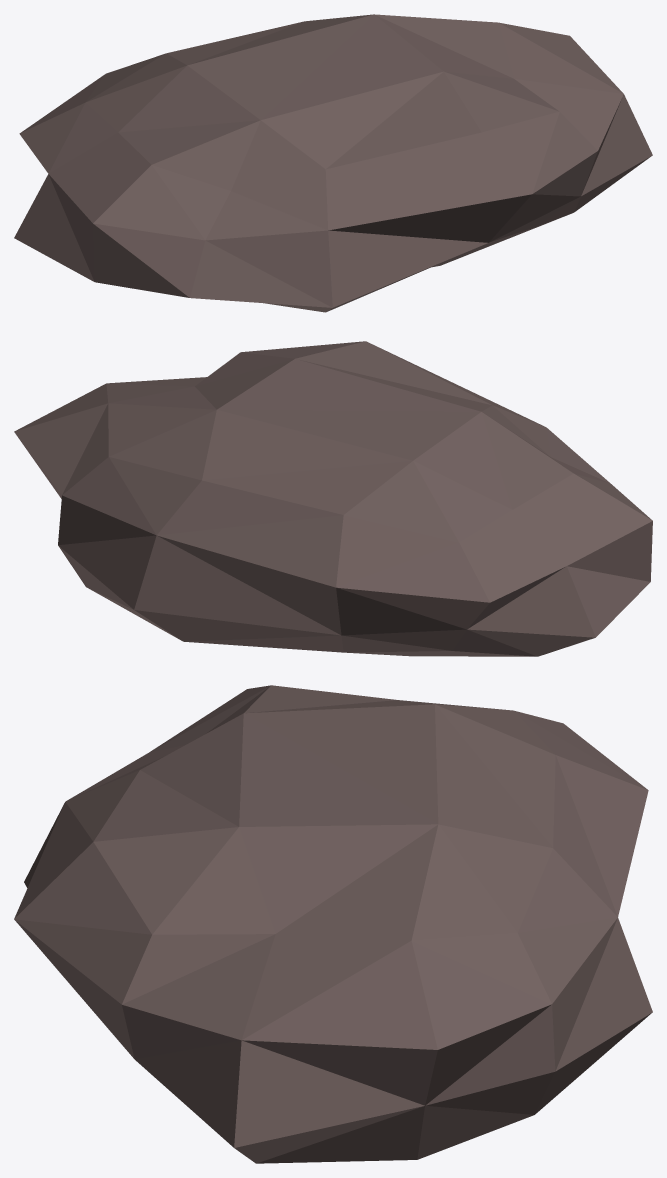
The model's file is rock.glb.
3 views of the same model, one above another, from view 1: azimuth 30°, elevation 25°; view 2: azimuth 150°, elevation 25°; view 3: azimuth 270°, elevation 25° (orthographic). The views are drawn at different scales.
Size of the model in its own units: 3.6 by 1.2 by 2.56.
Materials: 1 (1 with a texture image).
